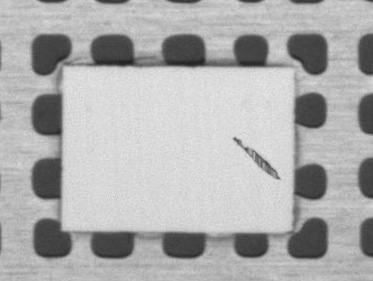DIE_INK: (301, 98, 373, 139)
